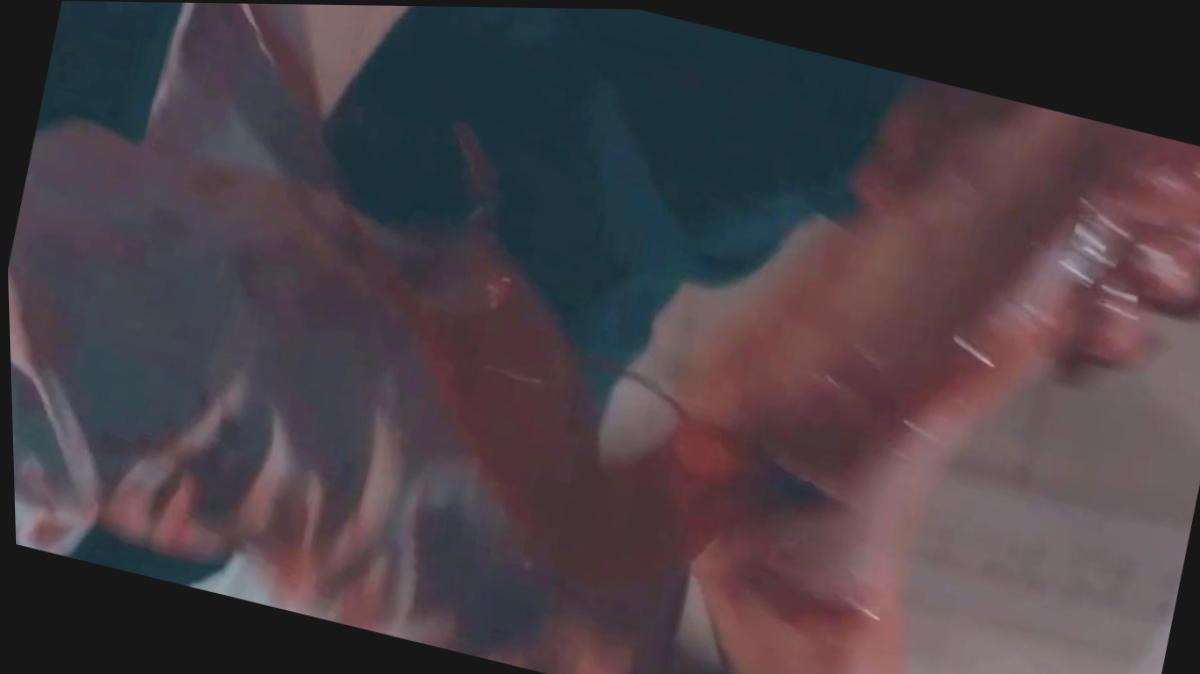Fire: (26, 2, 1200, 674)
